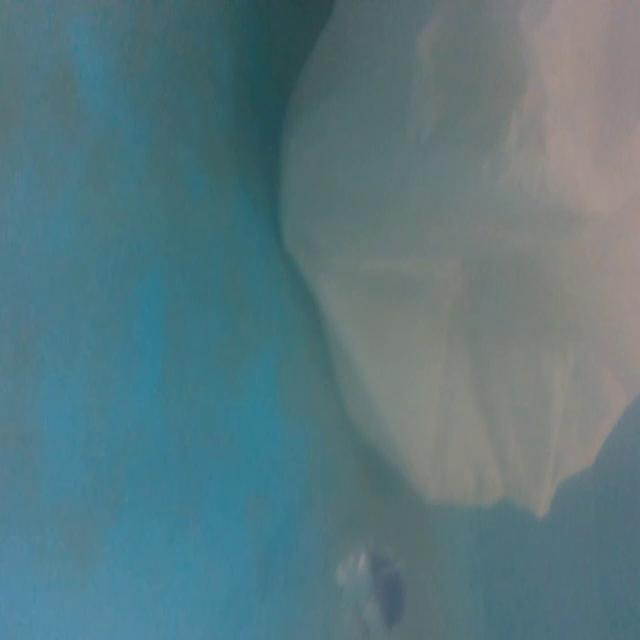plastic bags: (277, 4, 639, 508)
plastic bottle: (302, 545, 433, 640)
